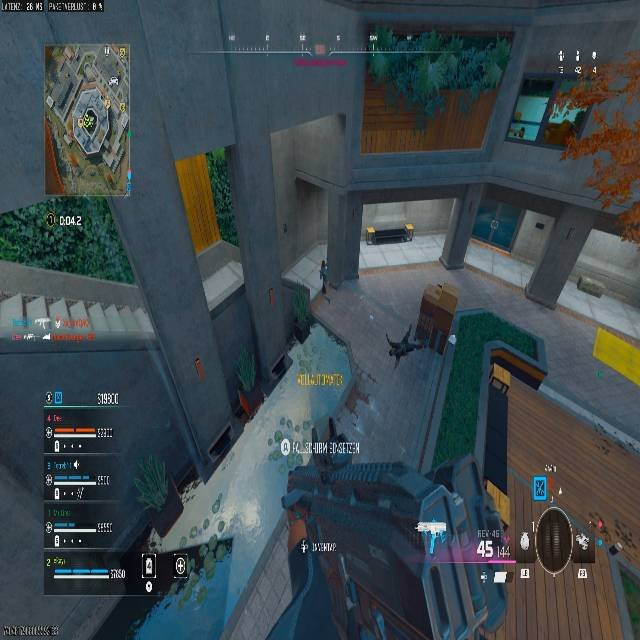head: (419, 279, 460, 322), (321, 259, 326, 265)
player: (386, 281, 462, 358), (319, 259, 327, 291)
